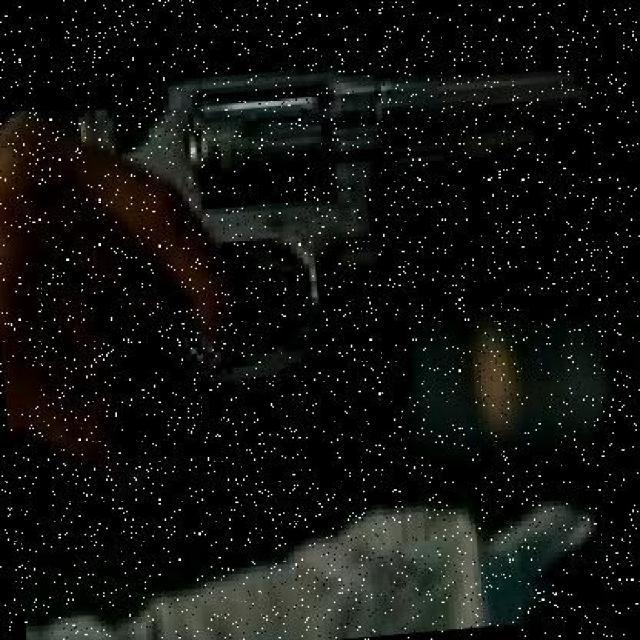rifle: (80, 51, 576, 280)
